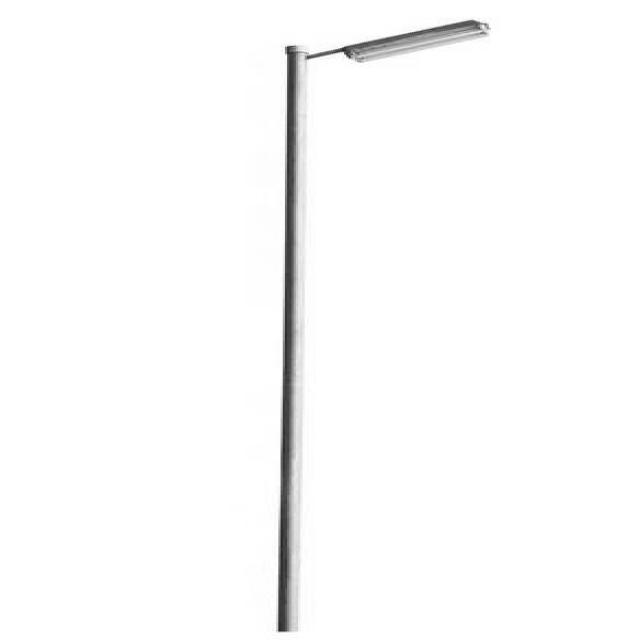Pole: (276, 20, 489, 633)
